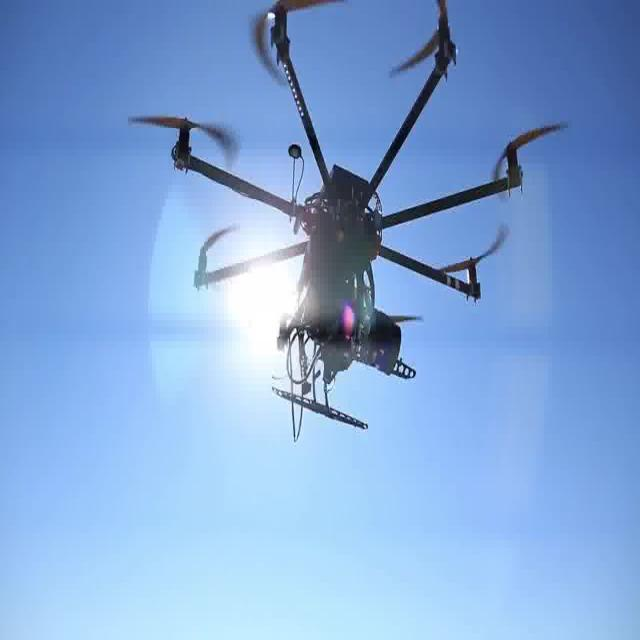Drone_FW: (127, 0, 569, 442)
